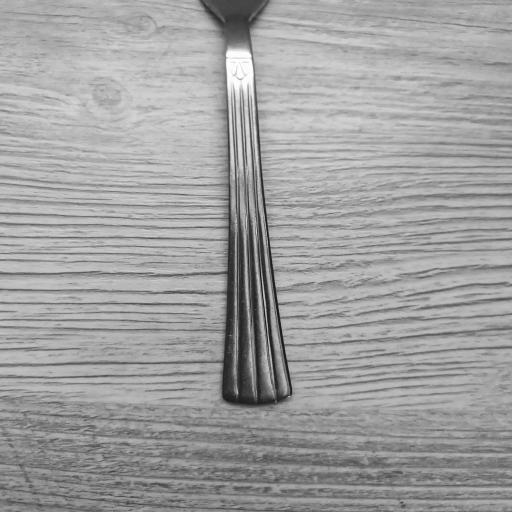fork: (194, 0, 289, 406)
